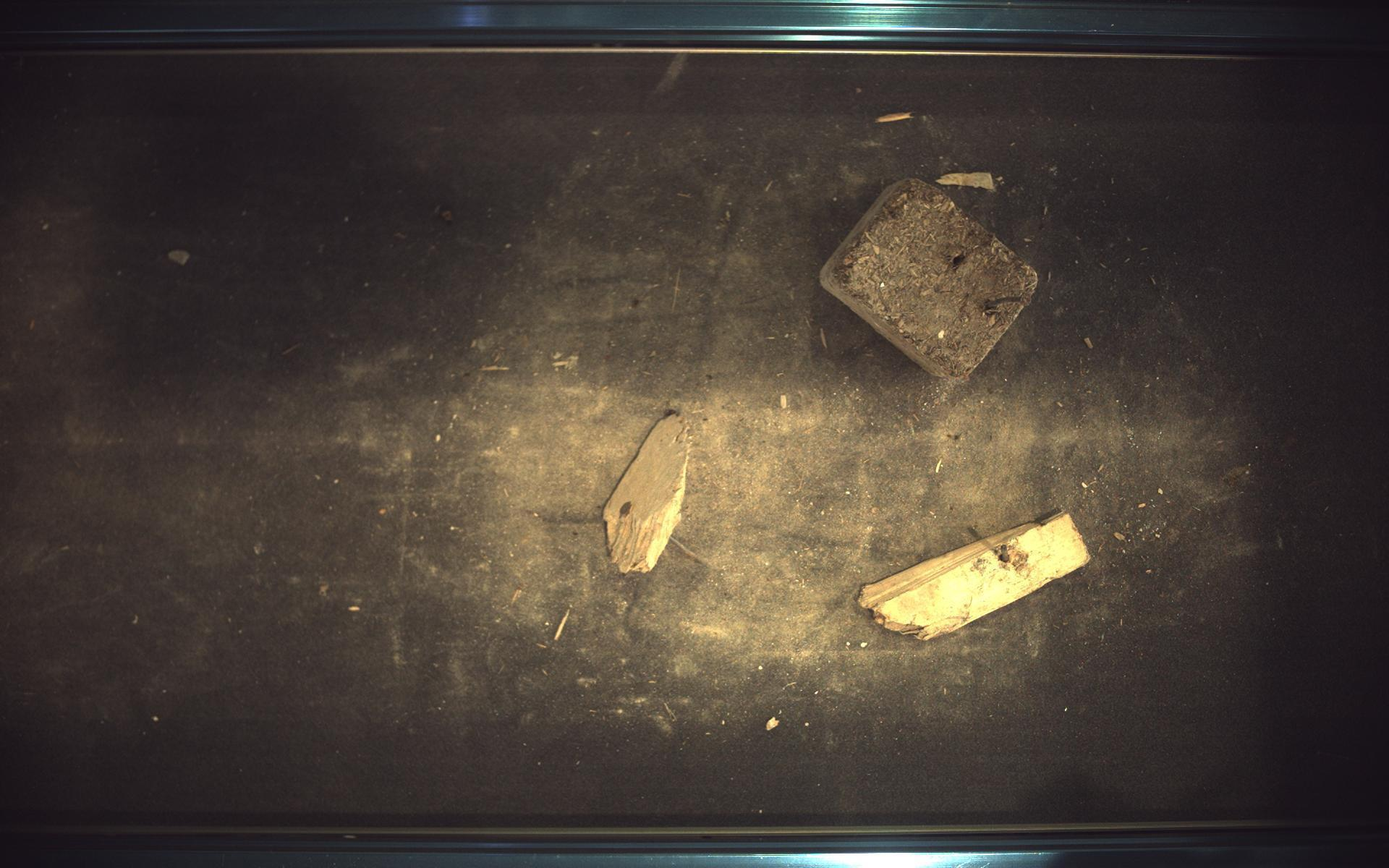wood: (821, 178, 1040, 378), (861, 513, 1092, 640), (604, 412, 691, 573)
